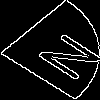N: (25, 25, 100, 83)
